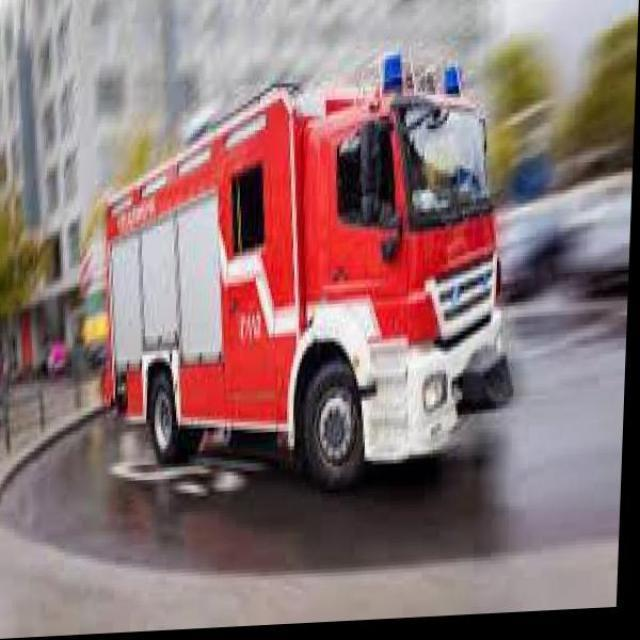emergency: (96, 47, 516, 491)
